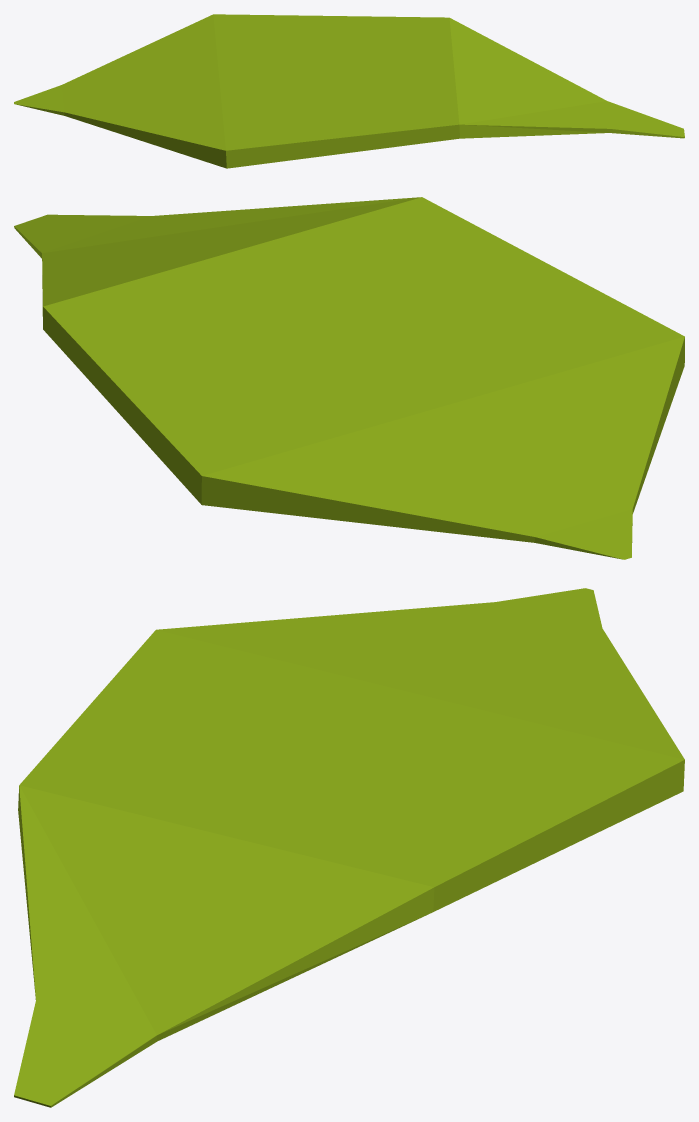
Rendered from Vegetation_Modular_Tree_Foliage_Common_Leaf_05.fbx.
The picture shows the model from 3 angles, top to bottom: view 1: azimuth 30°, elevation 25°; view 2: azimuth 150°, elevation 25°; view 3: azimuth 270°, elevation 25°; orthographic projection. The views are drawn at different scales.
Parts seen in each view (by area): view 1: Vegetation_Modular_Tree_Foliage_Common_Leaf_05; view 2: Vegetation_Modular_Tree_Foliage_Common_Leaf_05; view 3: Vegetation_Modular_Tree_Foliage_Common_Leaf_05.
Boxes of the visible parts, bbox=[...] form: Vegetation_Modular_Tree_Foliage_Common_Leaf_05: bbox=[14, 14, 684, 168]; Vegetation_Modular_Tree_Foliage_Common_Leaf_05: bbox=[14, 197, 684, 559]; Vegetation_Modular_Tree_Foliage_Common_Leaf_05: bbox=[14, 588, 684, 1107].
Bounding box in the file's own units: 936 × 119 × 594.
